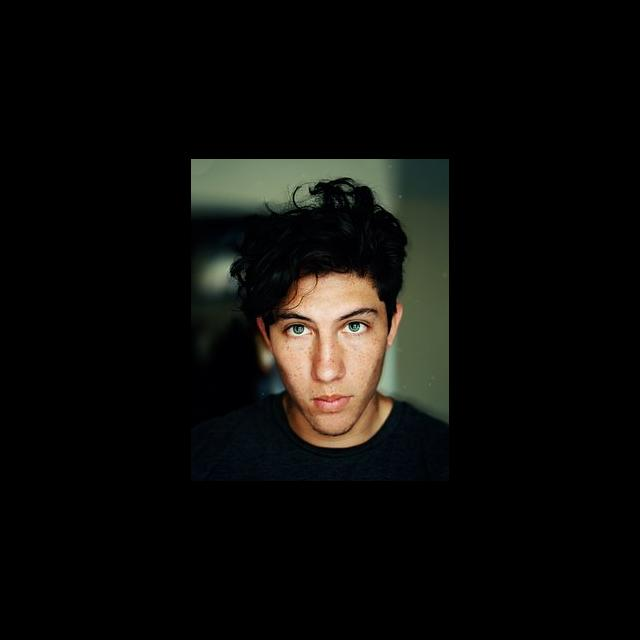male: (213, 185, 432, 432)
